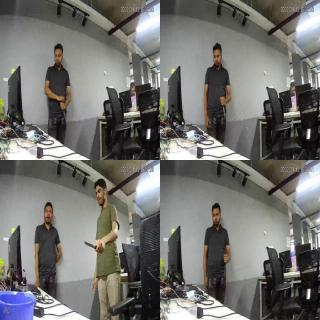knife: (82, 236, 100, 255), (60, 106, 68, 124), (220, 103, 227, 122), (222, 262, 228, 278)
